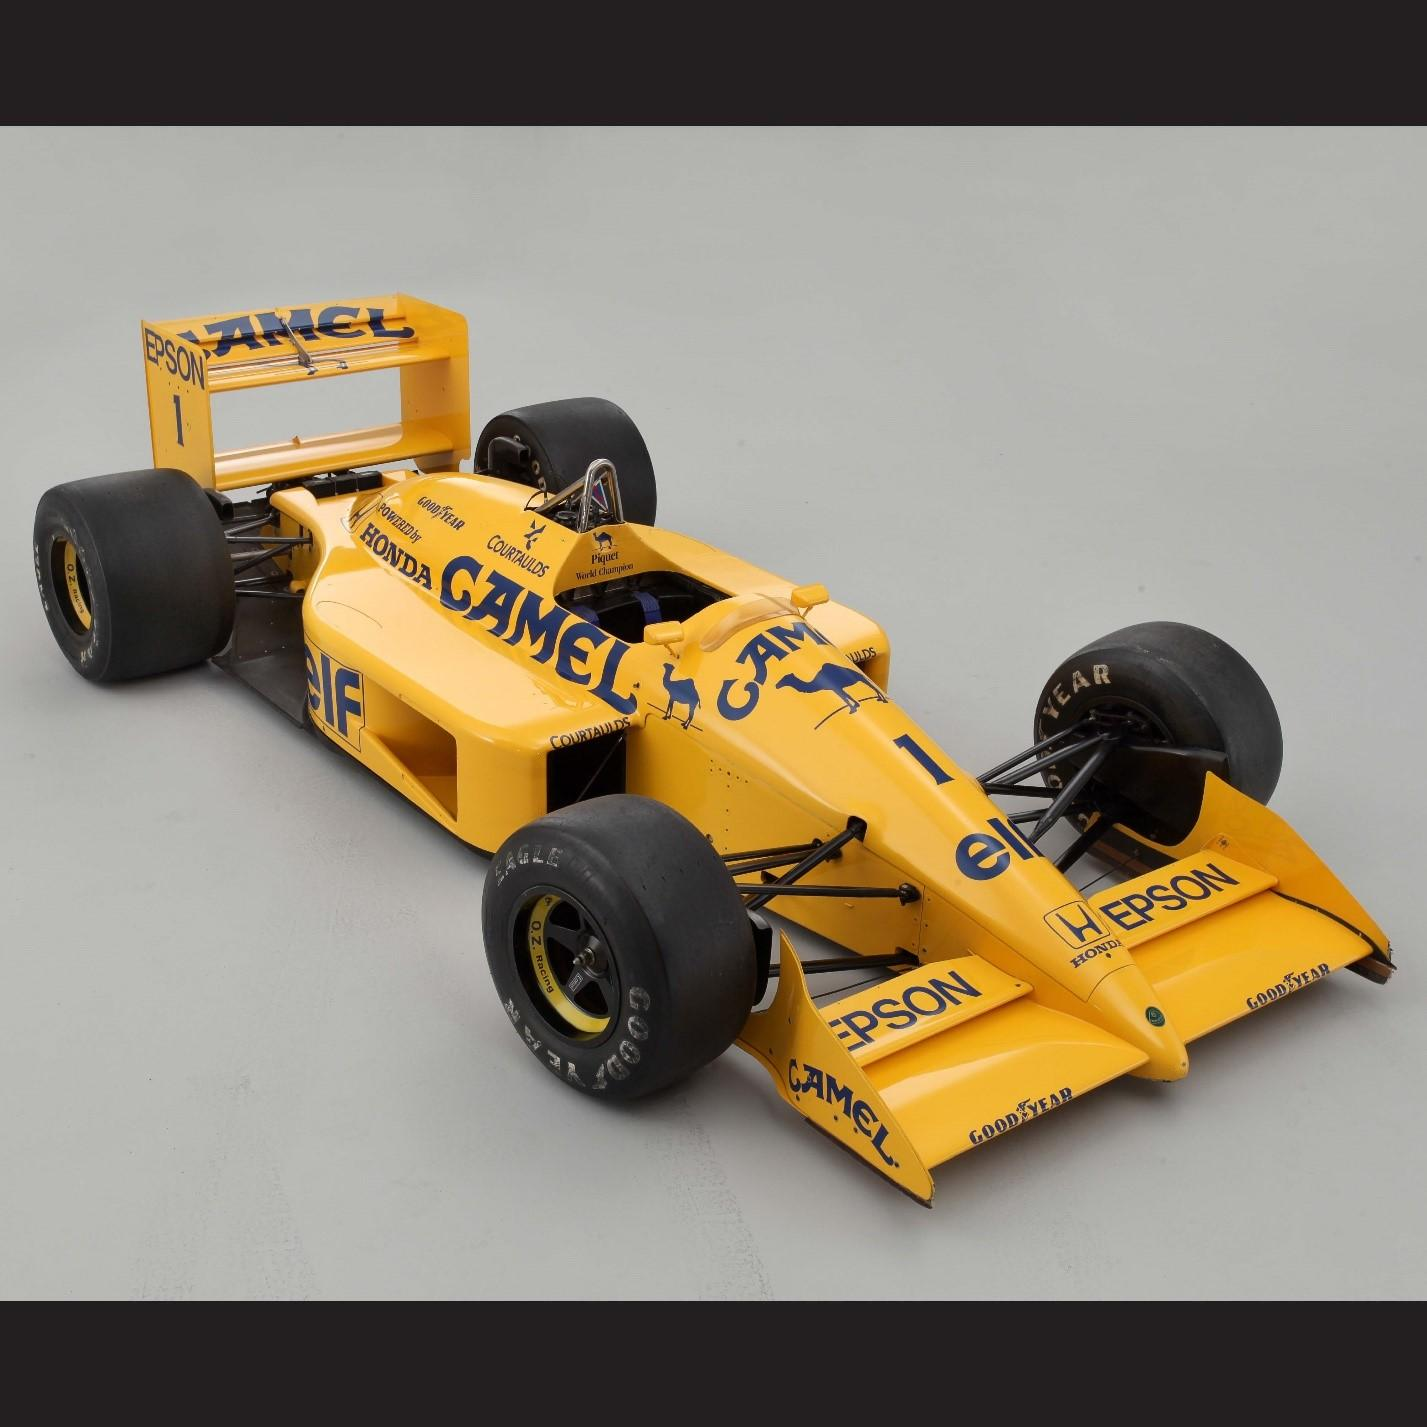f1_car: (22, 267, 1417, 1226)
